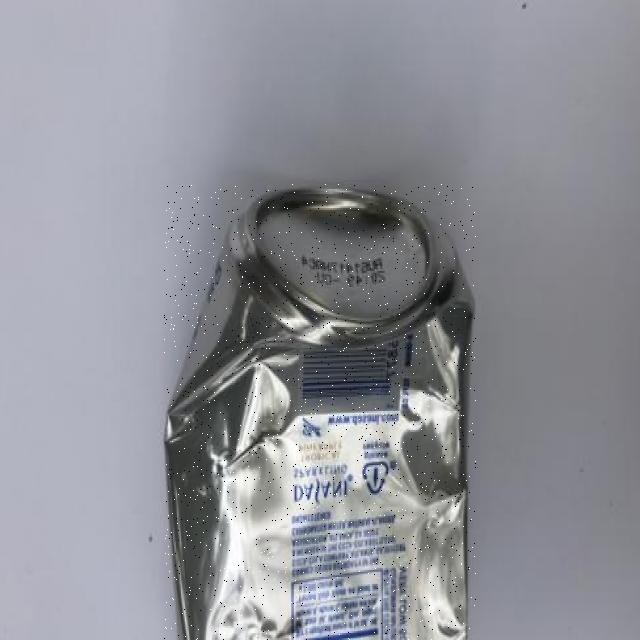metal: (164, 184, 476, 640)
